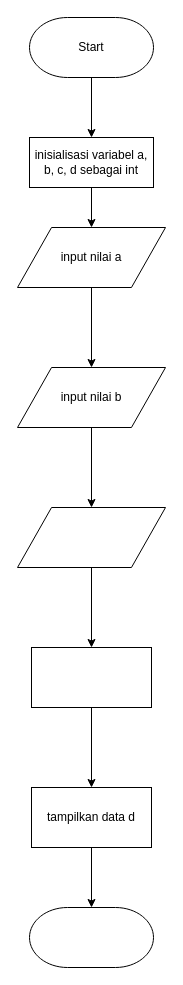
This 183x985 diagram has some shape labels left out. Each missing label, with the box of its shape:
End: (28, 906, 154, 968)
input nilai c: (16, 506, 166, 568)
lakukan operasi d = (b * b) - (4 * a * c): (30, 646, 152, 708)
